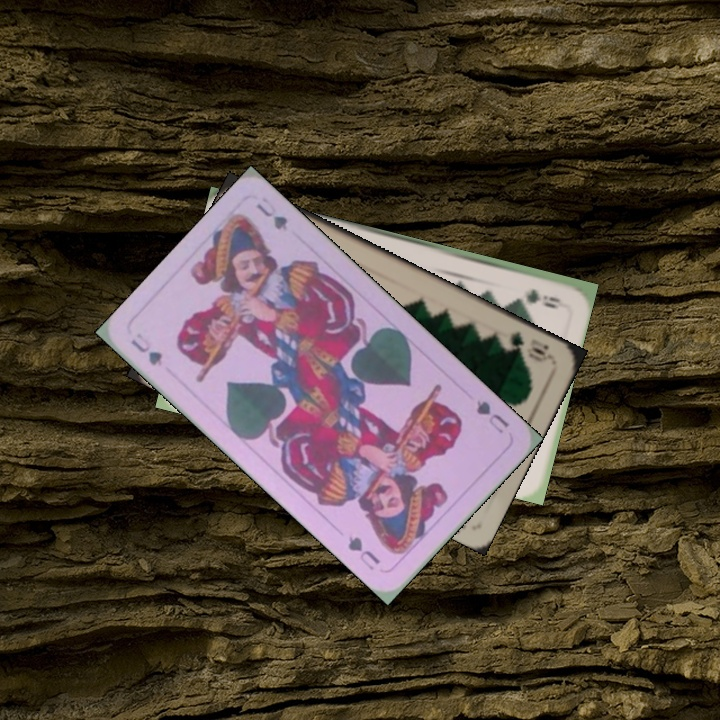G10: (506, 327, 555, 365)
G9: (522, 285, 564, 309)
GU: (472, 396, 512, 437), (126, 328, 165, 369)
